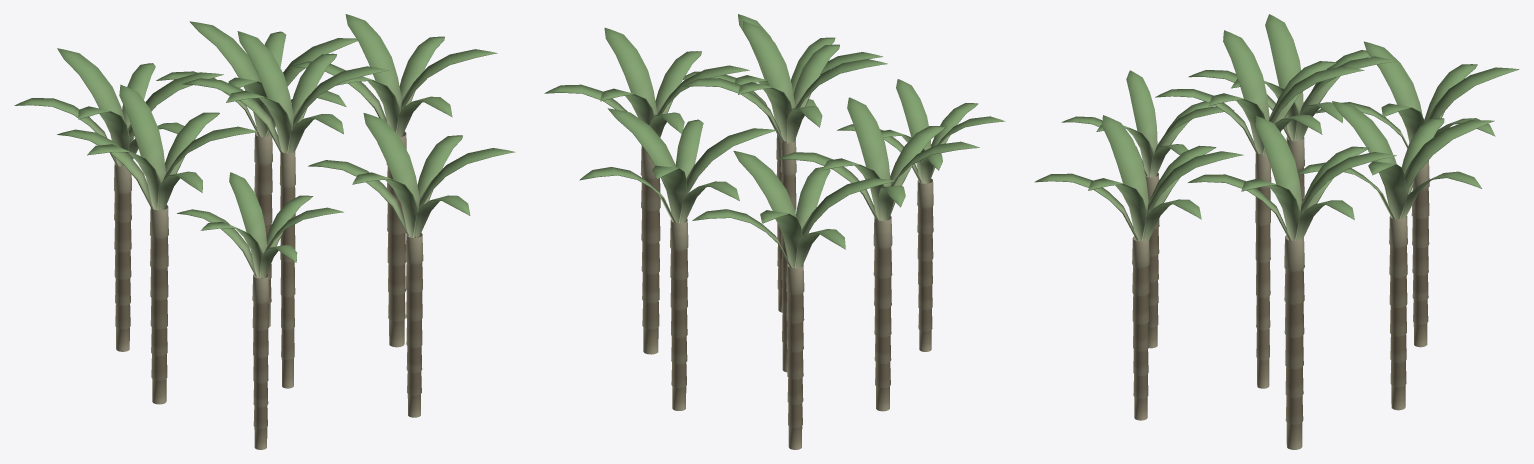
The model's file is Sugarcane_STAGE3.fbx.
3 renders of one model, left to right at view 1: azimuth 30°, elevation 25°; view 2: azimuth 150°, elevation 25°; view 3: azimuth 270°, elevation 25°, orthographic.
Visible parts, largest first — view 1: Sugarcane_STAGE3; view 2: Sugarcane_STAGE3; view 3: Sugarcane_STAGE3.
Boxes of the visible parts, x1,y1,x2,y2 form: Sugarcane_STAGE3: (14, 14, 515, 449); Sugarcane_STAGE3: (544, 14, 1005, 449); Sugarcane_STAGE3: (1034, 14, 1519, 449).
Size of the model in its own units: 1.33 by 1.27 by 0.9582.
